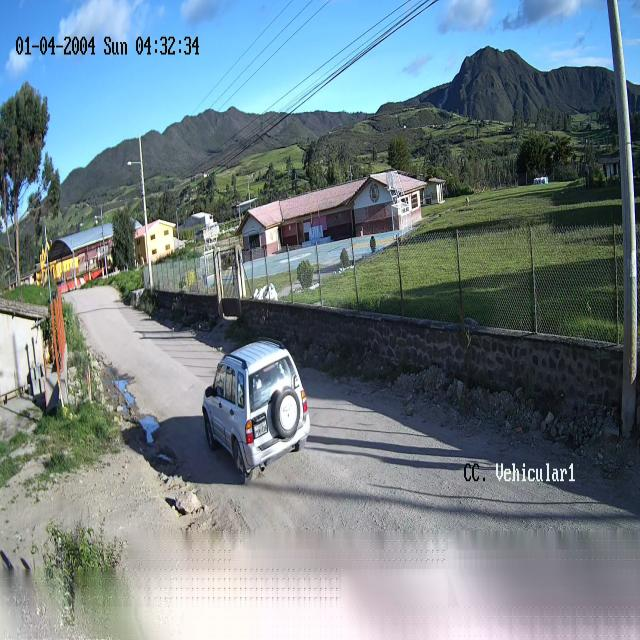SUV: (202, 344, 310, 483)
